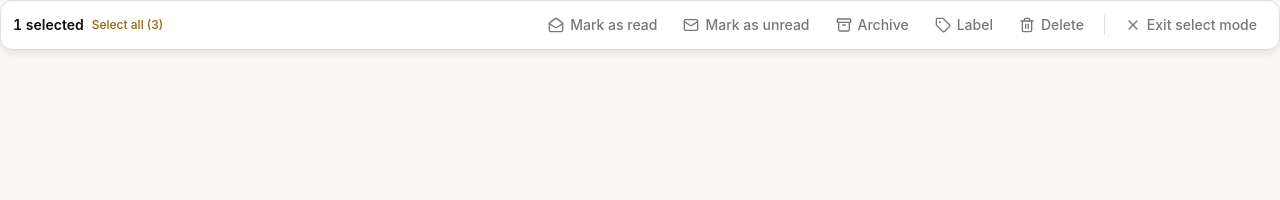
it: filtering the bulk picker › a label reached through the filter is applied like any other
This screenshot has width=1280, height=200.
Step 1. Click the button with aria-label "Apply label" → (964, 25), box x1=925 y1=9 x2=1003 y2=41
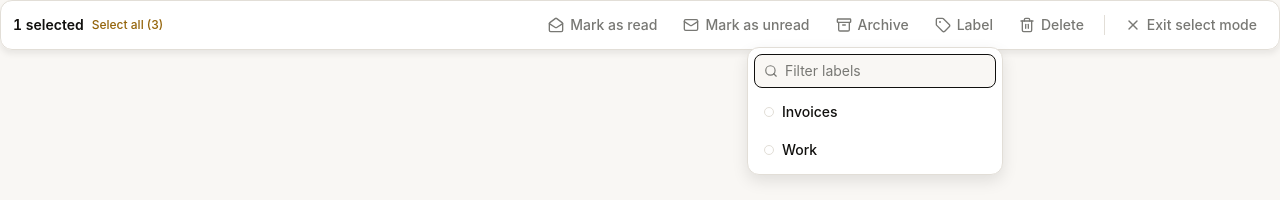
Step 2. Type "inv" into the search field labelled "Filter labels" → (875, 71), box x1=754 y1=54 x2=996 y2=88
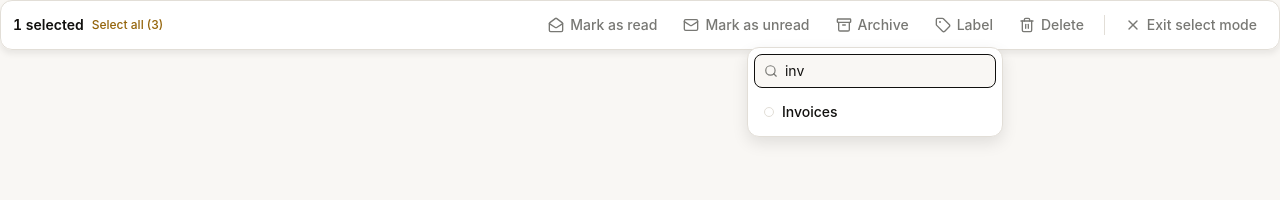
Step 3. Click the menu item "Invoices" → (875, 112), box x1=754 y1=94 x2=996 y2=130
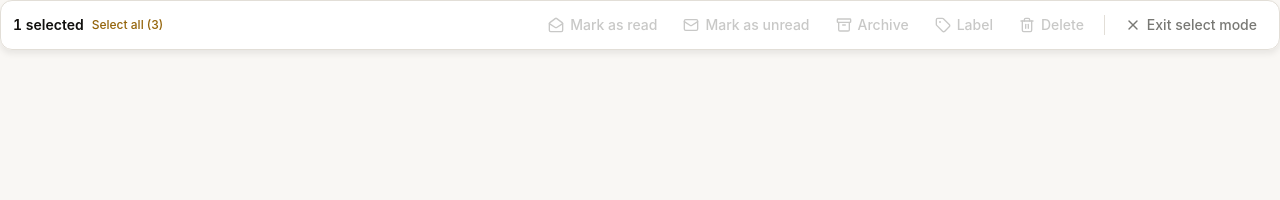
Expected: the search field labelled "Labels" is gone
